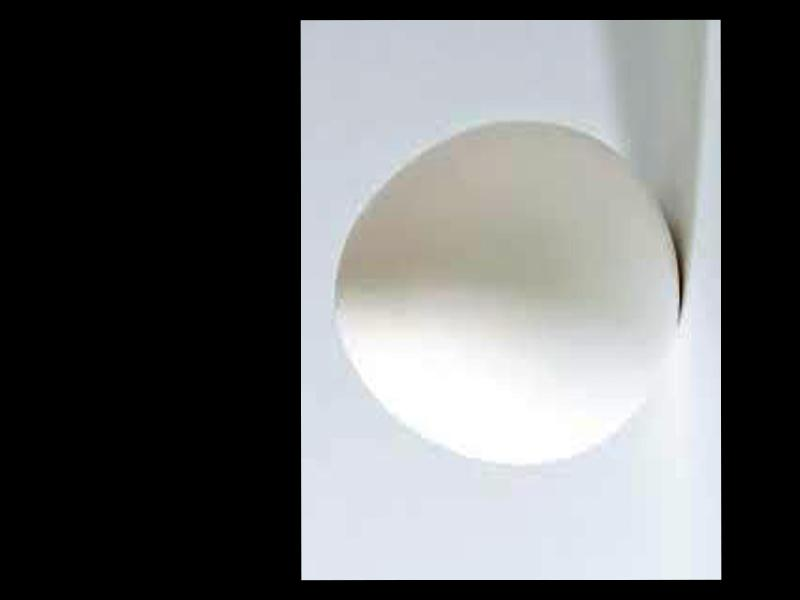Eggs: (332, 124, 680, 463)
